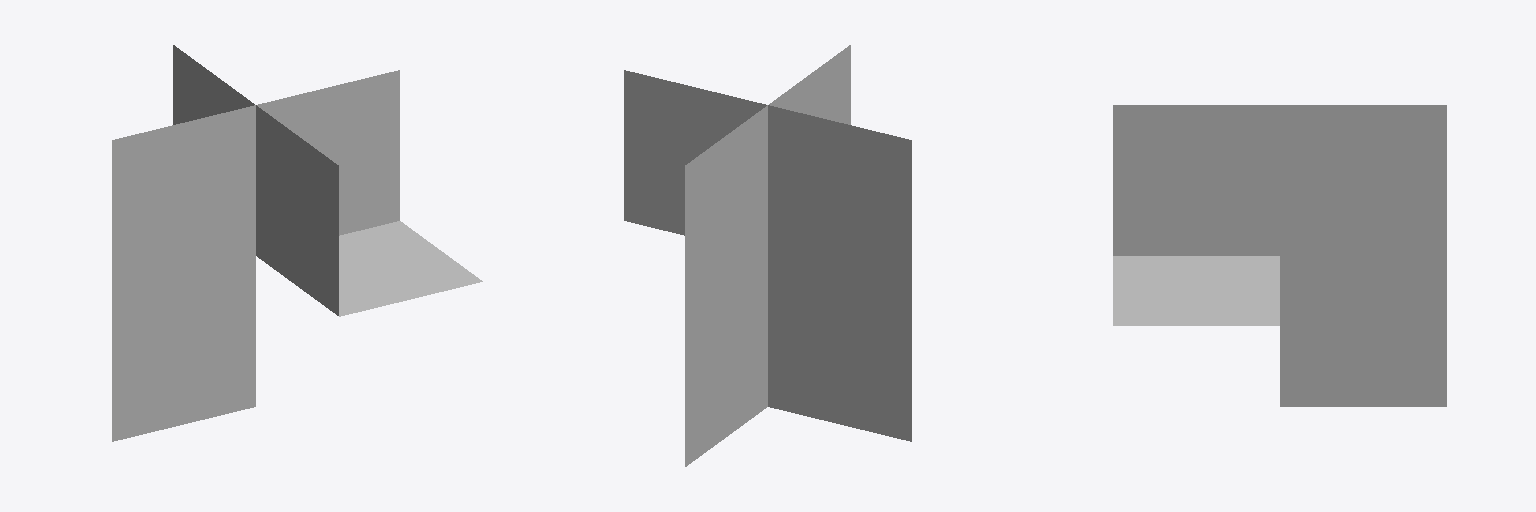
3 renders of one model, left to right at view 1: azimuth 30°, elevation 25°; view 2: azimuth 150°, elevation 25°; view 3: azimuth 270°, elevation 25°, orthographic.
Parts seen in each view (by area): view 1: 1010_0010_立方体.080; view 2: 1010_0010_立方体.080; view 3: 1010_0010_立方体.080.
Part boxes in pixels (x1,y1,x2,y2): 1010_0010_立方体.080: (112,45,482,441); 1010_0010_立方体.080: (624,45,911,466); 1010_0010_立方体.080: (1113,105,1446,406).
Size of the model in its own units: 1 by 1 by 1.